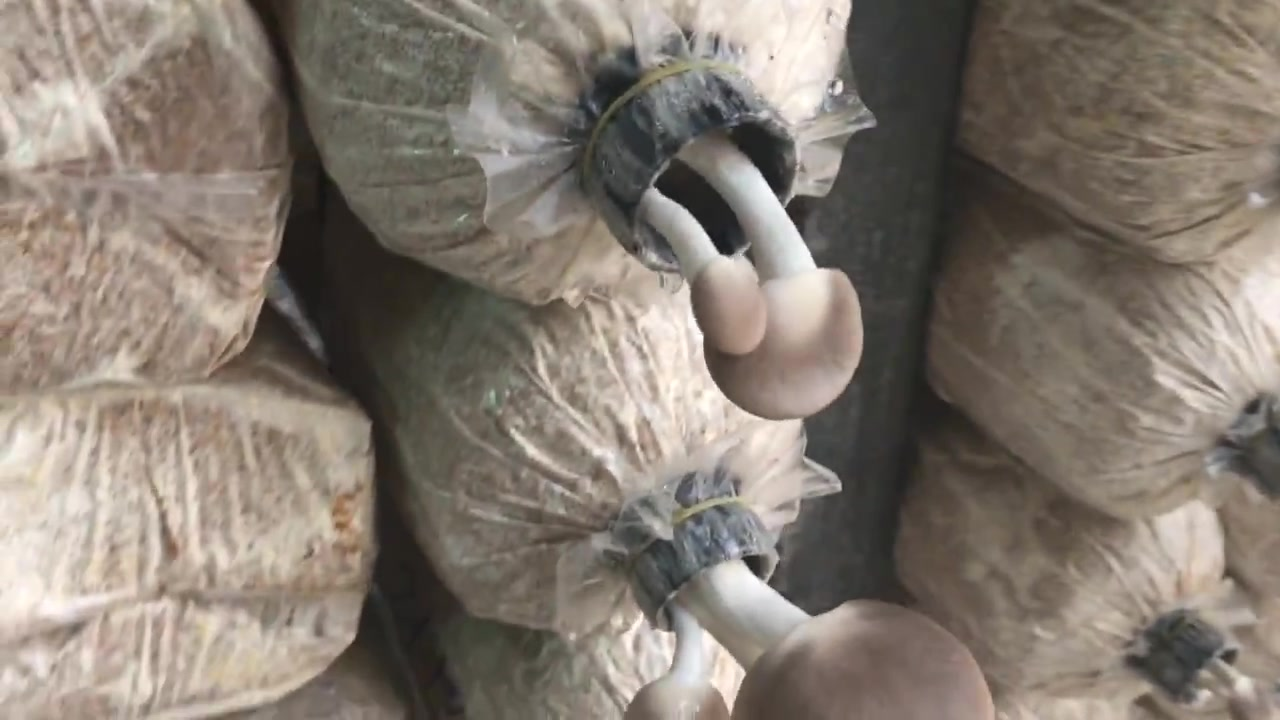nam: (598, 63, 863, 417), (628, 508, 991, 720), (1161, 613, 1280, 720)
